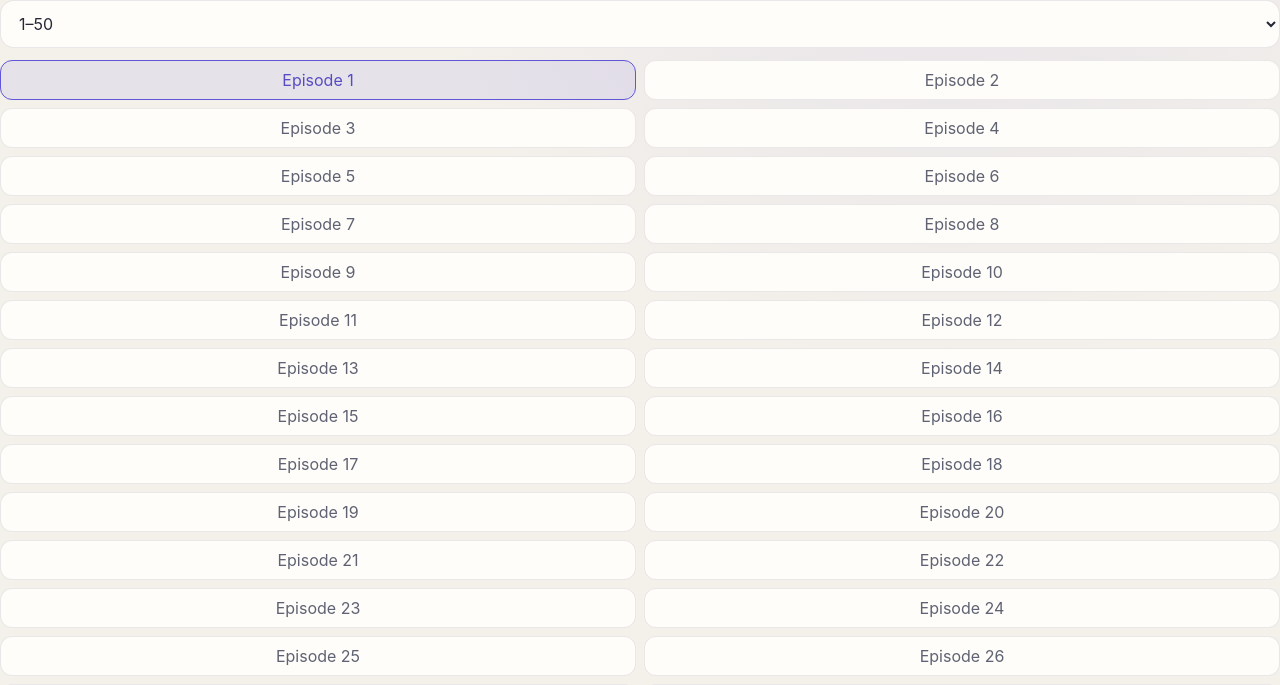
it: AnimeEpisodeSelector › segments large episode lists instead of rendering every button
Select "101–120" in the dropdown named "Episode range" at (640, 24), box [0,0,1279,48]
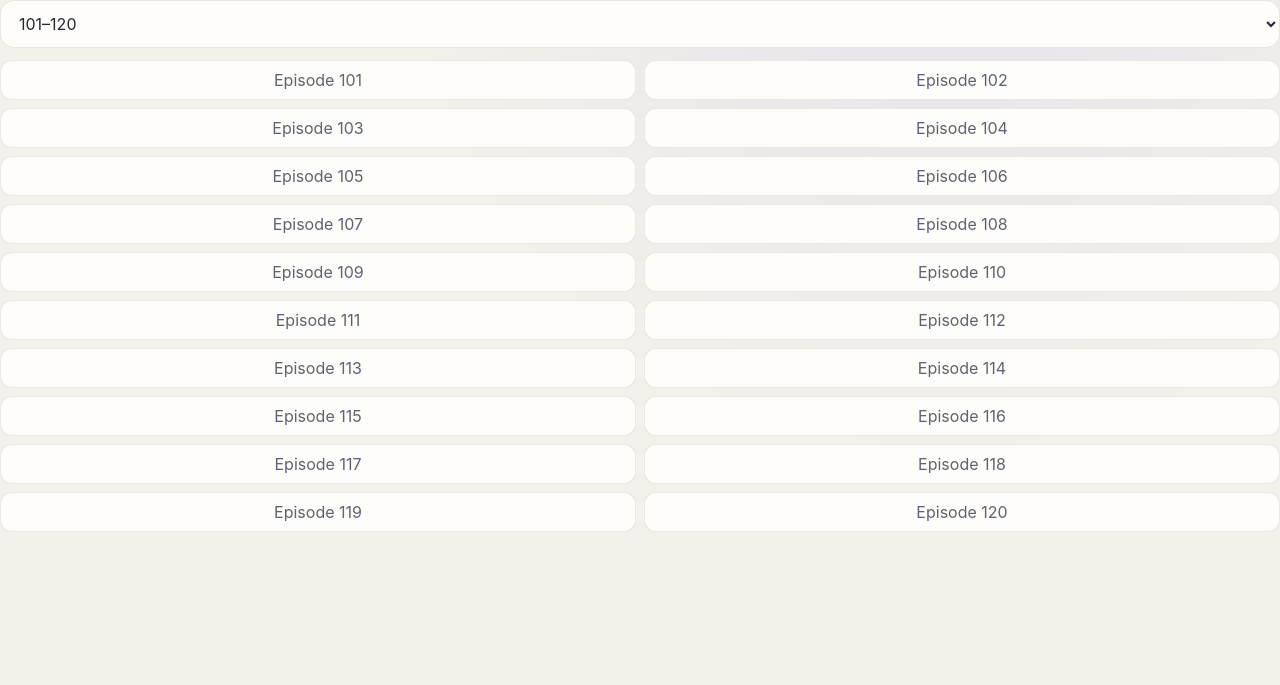
Expected: the number of buttons is 20
Expected: the button "Episode 120" is shown, [644,492,1279,532]
